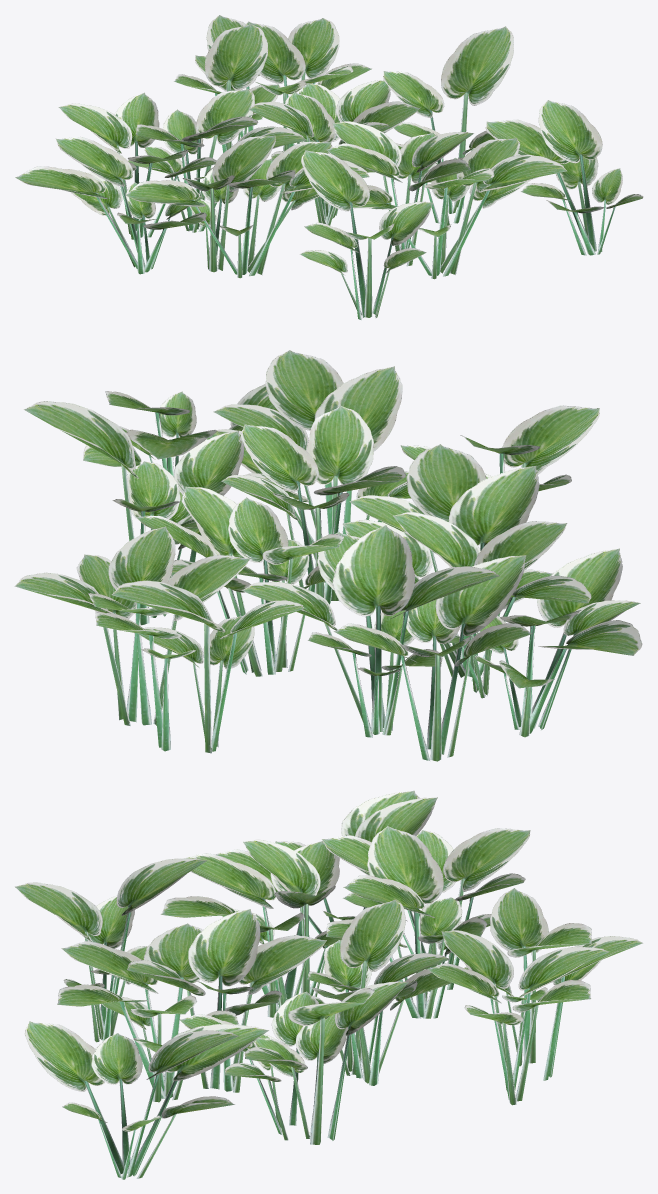
The model's file is cluster_plant_small_wg_05.fbx.
3 renders of one model, top to bottom at view 1: azimuth 30°, elevation 25°; view 2: azimuth 150°, elevation 25°; view 3: azimuth 270°, elevation 25°, orthographic. The views are drawn at different scales.
Visible parts, largest first — view 1: cluster_plant_small_wg_05; view 2: cluster_plant_small_wg_05; view 3: cluster_plant_small_wg_05.
Part boxes in pixels (x1=…): cluster_plant_small_wg_05: x1=15, y1=15, x2=643, y2=320; cluster_plant_small_wg_05: x1=14, y1=350, x2=642, y2=761; cluster_plant_small_wg_05: x1=15, y1=790, x2=642, y2=1179.
Bounding box in the file's own units: 173 × 50.12 × 159.
